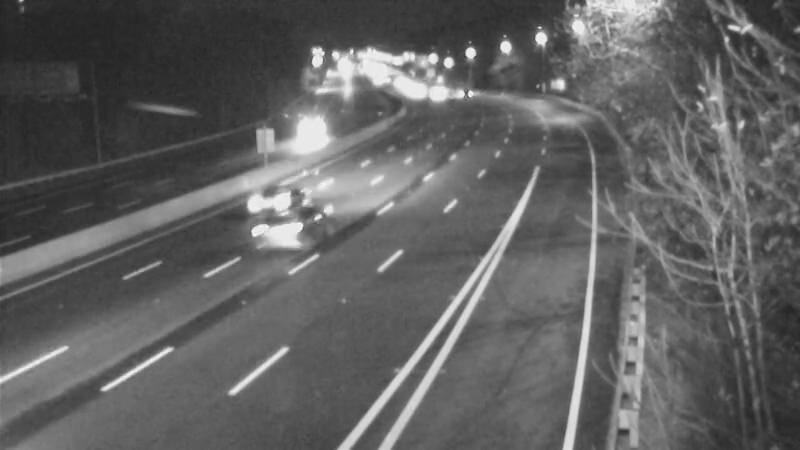vehicle: (228, 159, 308, 239), (239, 200, 319, 280), (436, 70, 486, 120), (414, 67, 464, 117), (390, 68, 440, 118), (284, 106, 334, 156)
